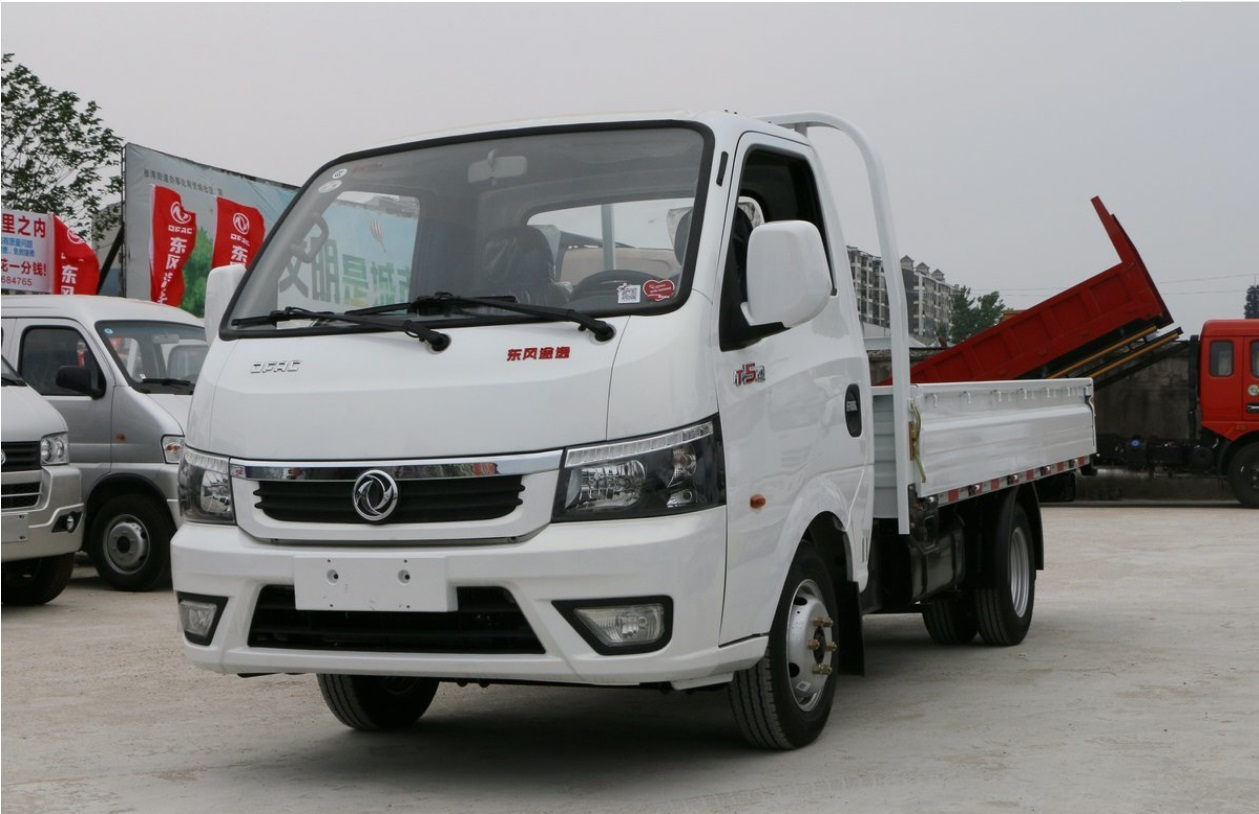truck: (168, 105, 1106, 769)
